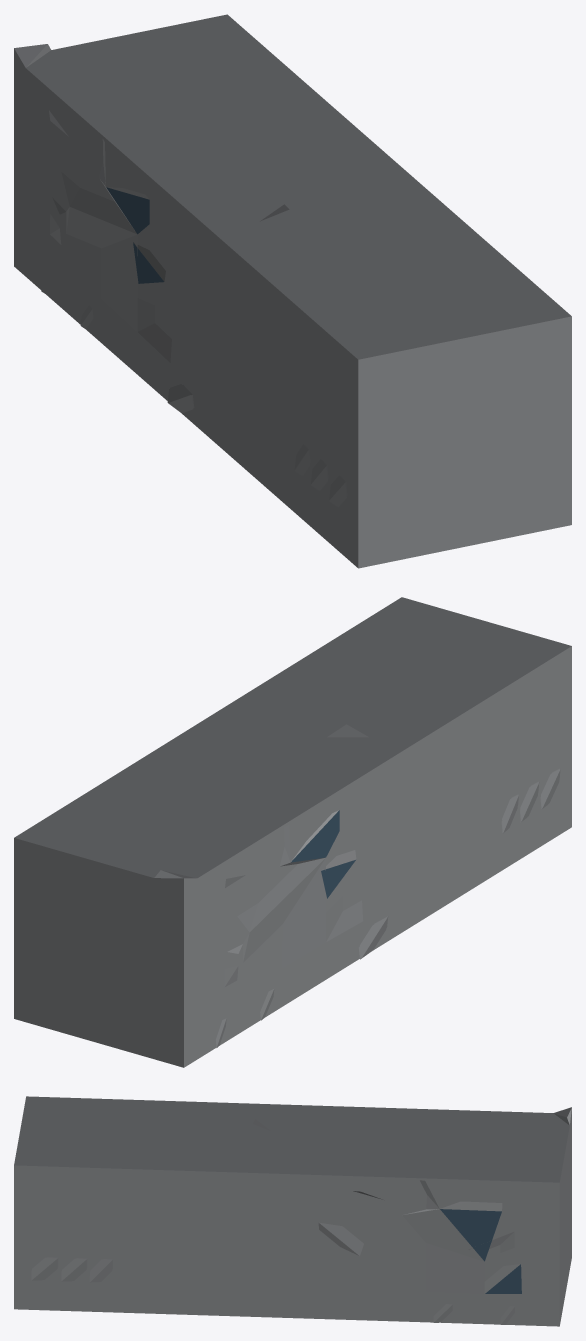
File: ljg-synagoge.lod2.glb
The picture shows the model from 3 angles, top to bottom: view 1: azimuth 30°, elevation 25°; view 2: azimuth 150°, elevation 25°; view 3: azimuth 270°, elevation 25°; orthographic projection. The views are drawn at different scales.
Visible parts, largest first — view 1: lod2; view 2: lod2; view 3: lod2.
Part boxes in pixels (box(x1,y1,x2,y2)): lod2: box(14, 14, 571, 568); lod2: box(14, 597, 571, 1067); lod2: box(14, 1096, 571, 1326).
Bounding box in the file's own units: 21.38 × 17.43 × 58.52.
